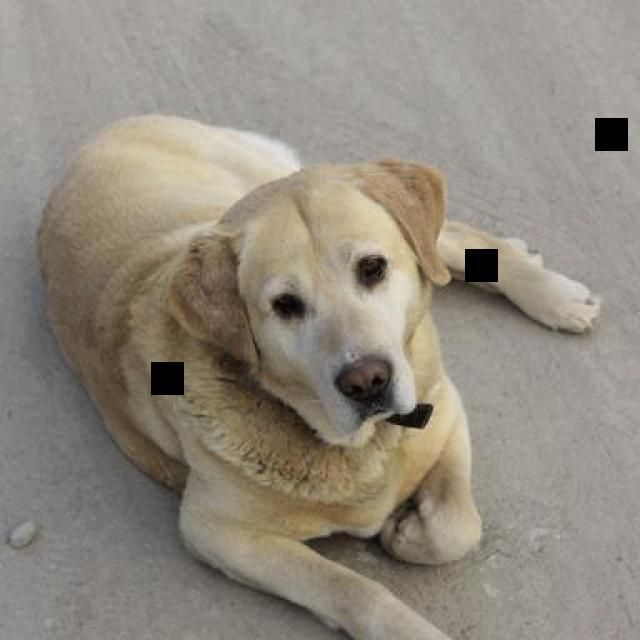adult_dog: (35, 112, 603, 640)
